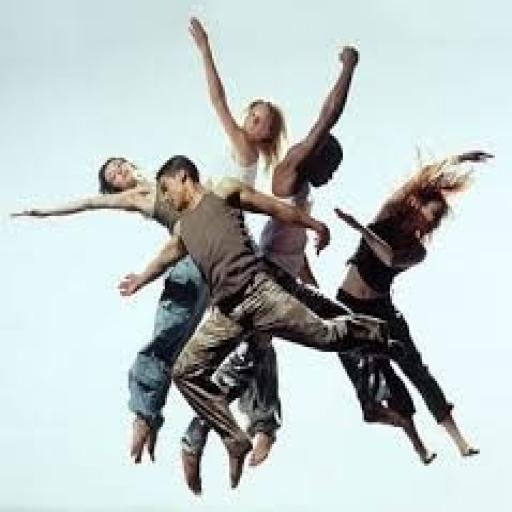dancing: (56, 29, 470, 496)
